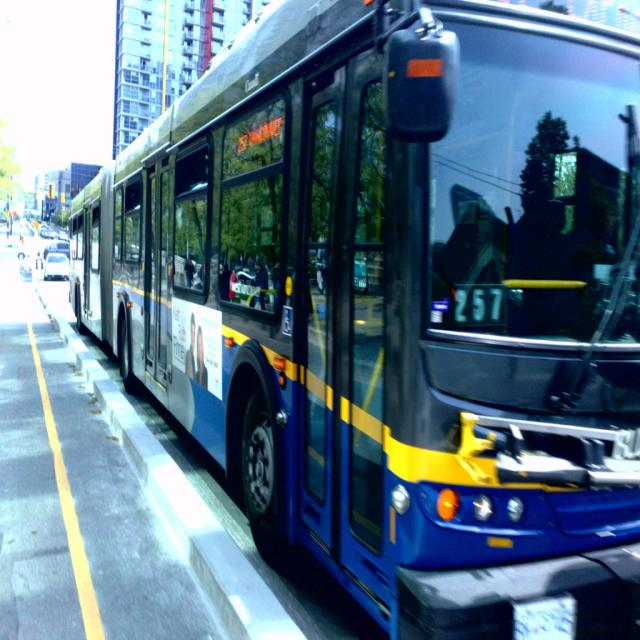car: (40, 251, 71, 280)
